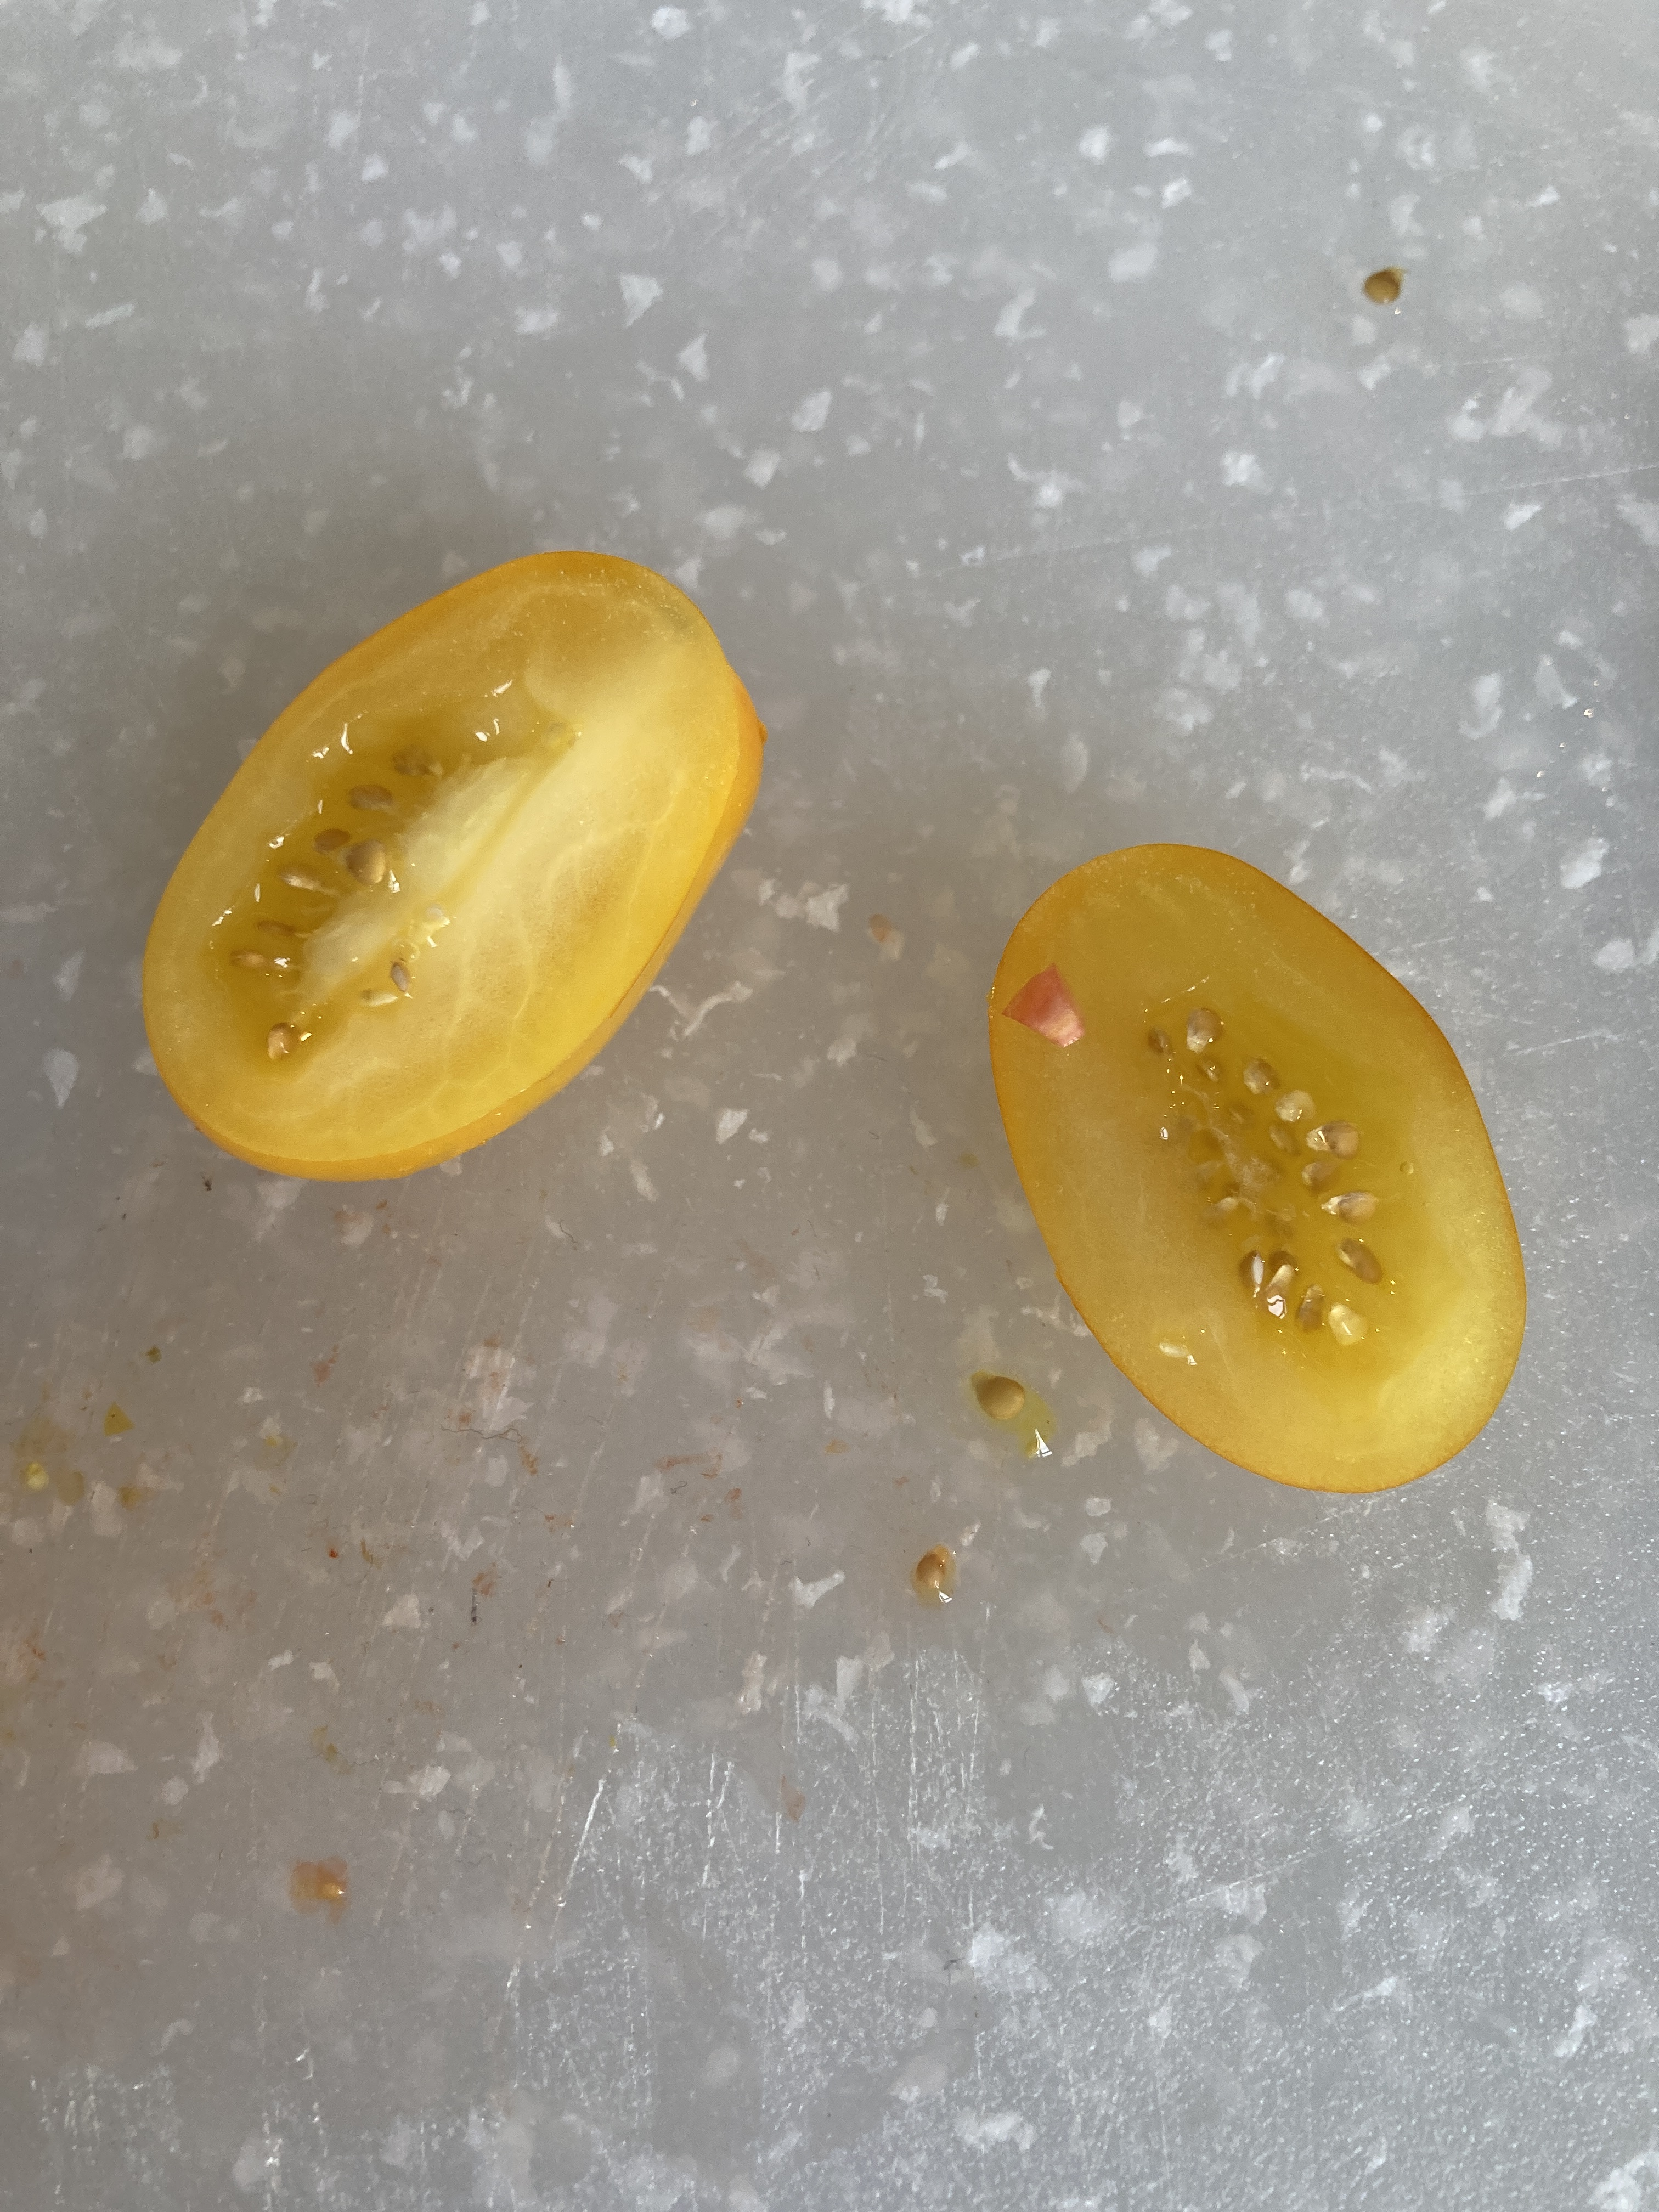healthy-tomato: (136, 543, 770, 1179), (979, 843, 1535, 1500)
